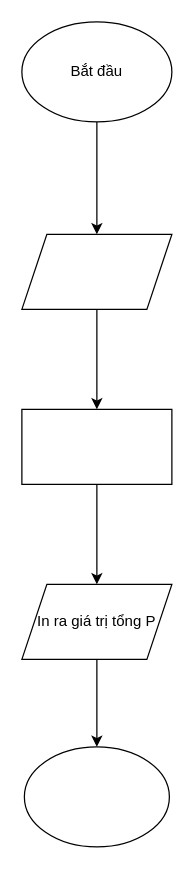
Image size: 194x869. Some labels were removed from this diagram. The shapes that lost their labels are listed below. From the top down, each one's centre as x and y in pixels, then its label:
At [96,271]: "Nhập 2 số a và b".
At [96,446]: "P = a + b".
